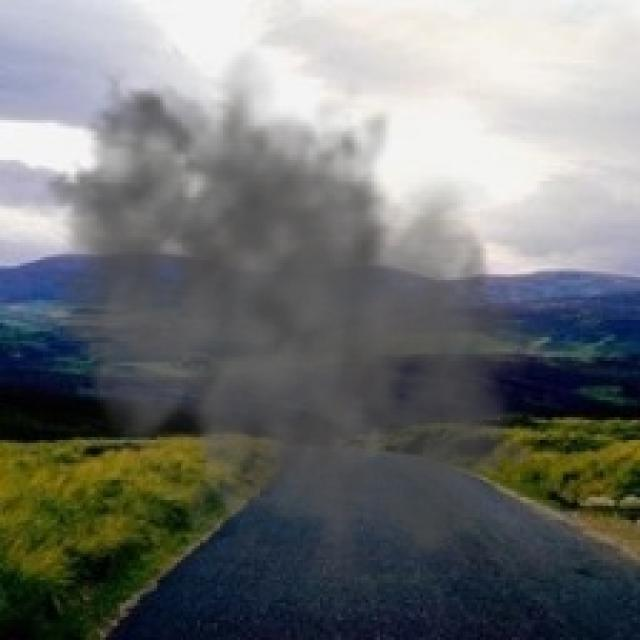smoke: (9, 46, 568, 597)
